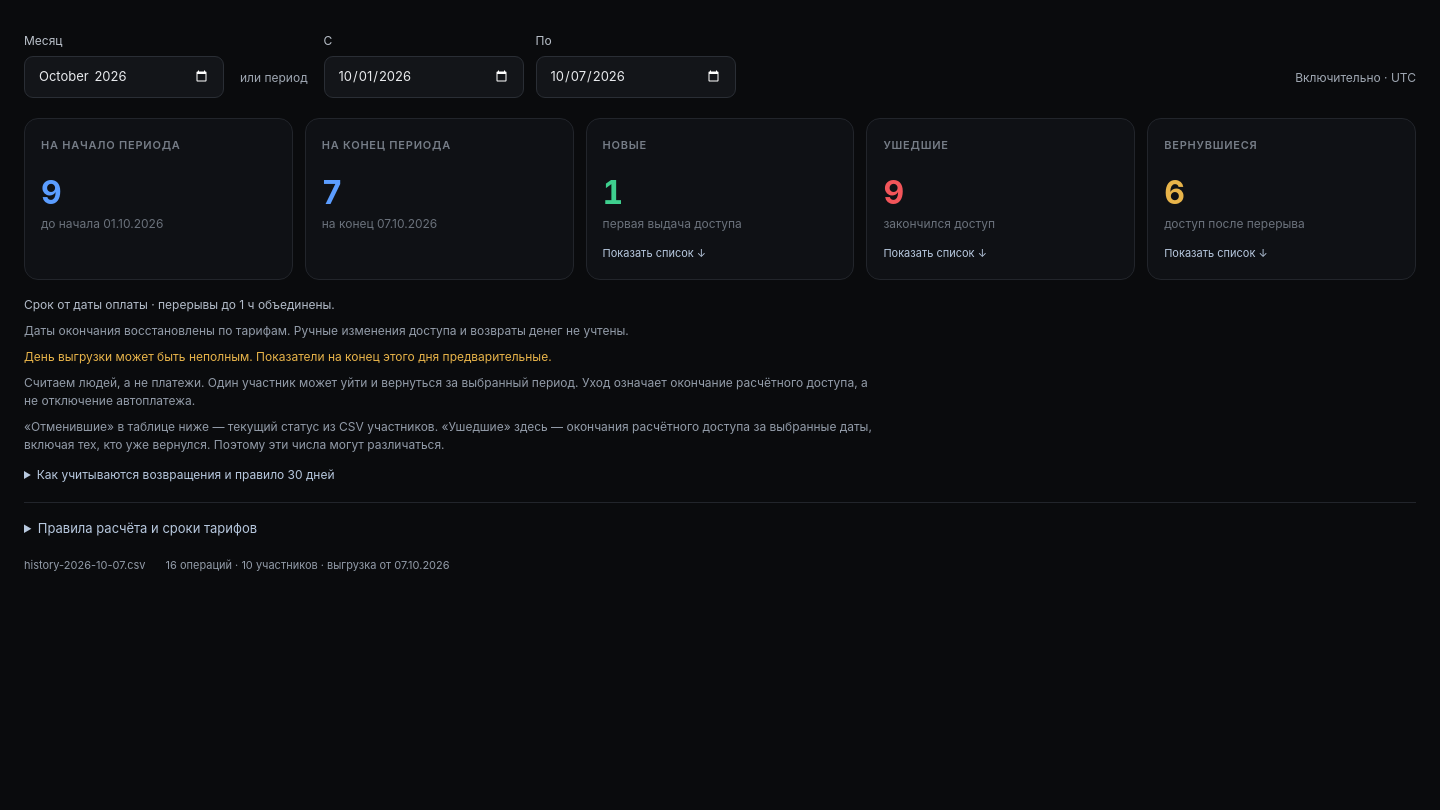
Test: HistoryReport participant lists › updates the opened list on date changes and hides it for an invalid range
This screenshot has width=1440, height=810.
Step 1. Click the button with aria-label "Ушедшие: 9 — показать участников" → point(916, 144), box [867,118,1134,279]
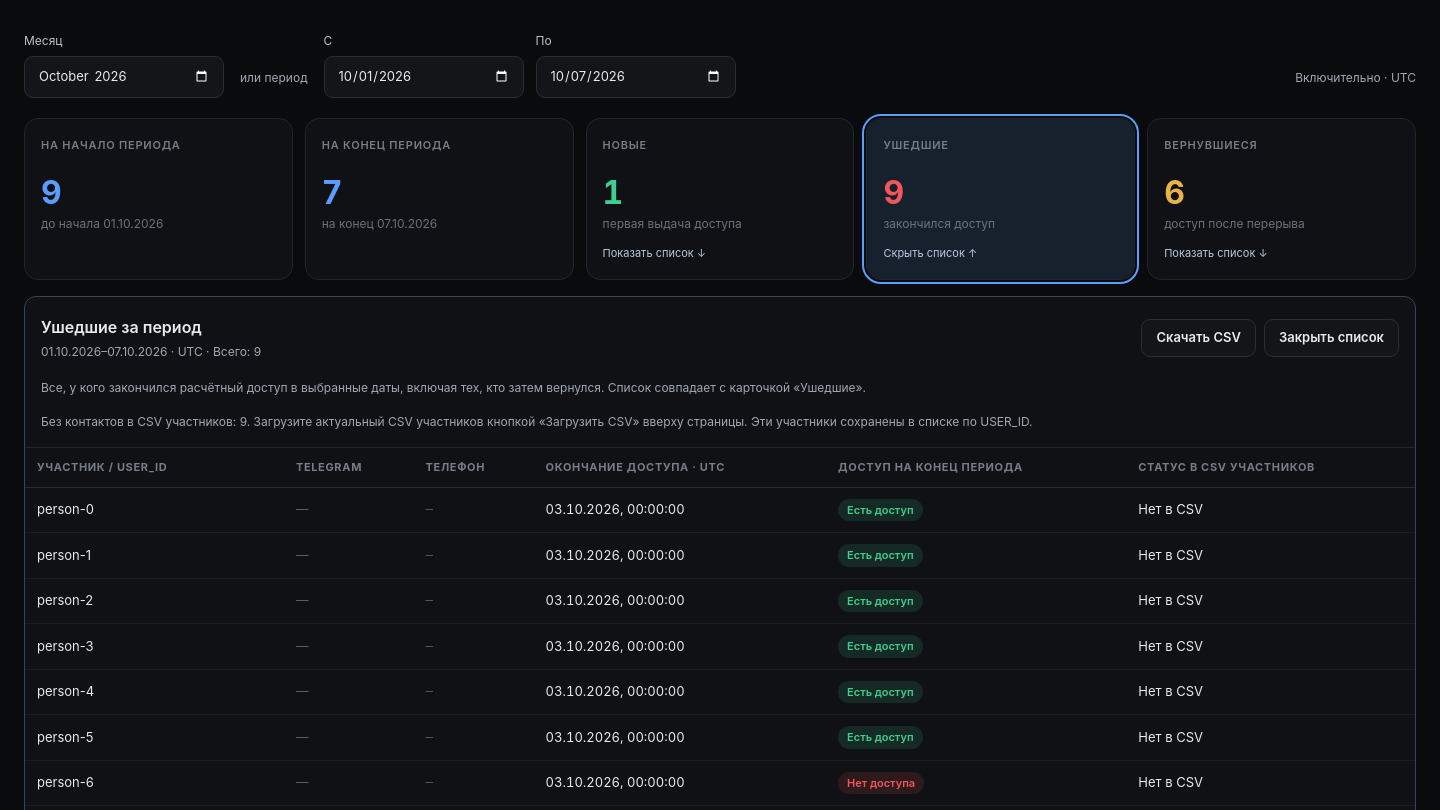
Step 2. Type "2026-10-04" into the date field labelled "С" → point(424, 77), box [324,56,524,98]
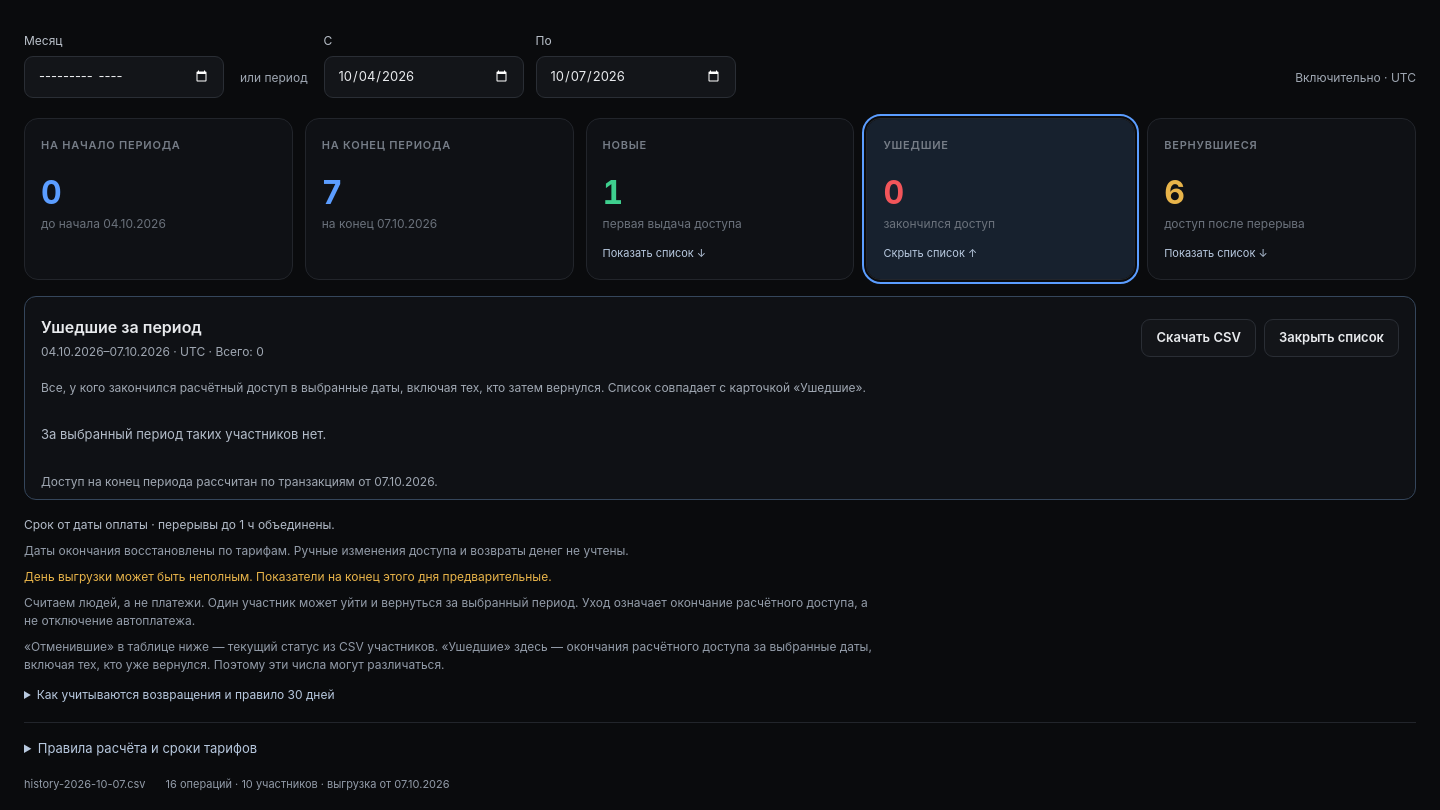
Expected: the button "Скачать CSV" is disabled, [1141,319,1256,357]
Now the button with aria-label "Ушедшие: 0 — показать участников" is expanded, box [867,118,1134,279]
Now the text "За выбранный период таких участников нет." is shown, box [41,426,326,442]
Step 3. Type "2026-10-08" into the date field labelled "С" → point(424, 77), box [324,56,524,98]
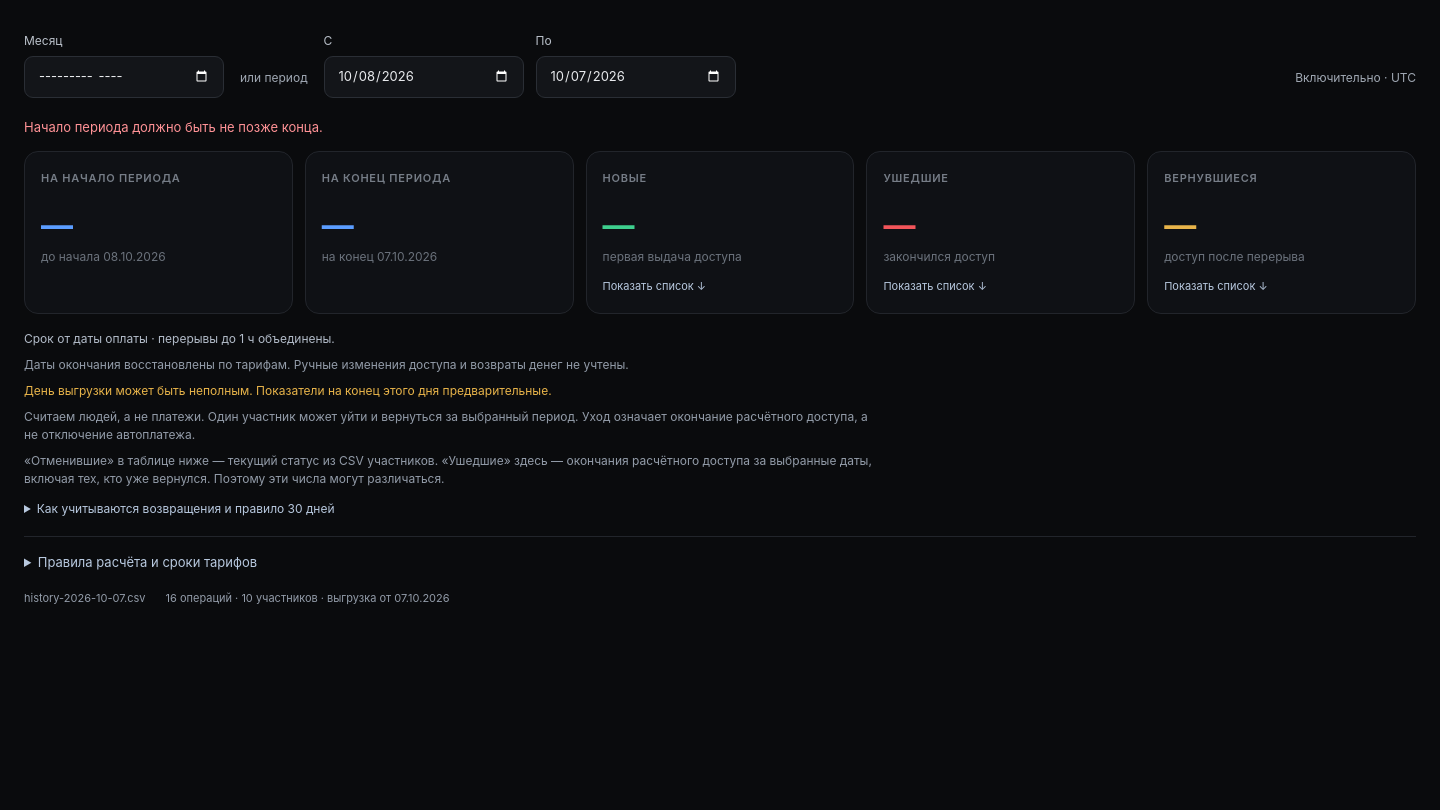
Now the message reads "Начало периода должно быть не позже конца.", box [24,118,323,134]
Now the heading "Ушедшие за период" is gone
Now the button with aria-label "Ушедшие: — — показать участников" is disabled, box [867,152,1134,312]
